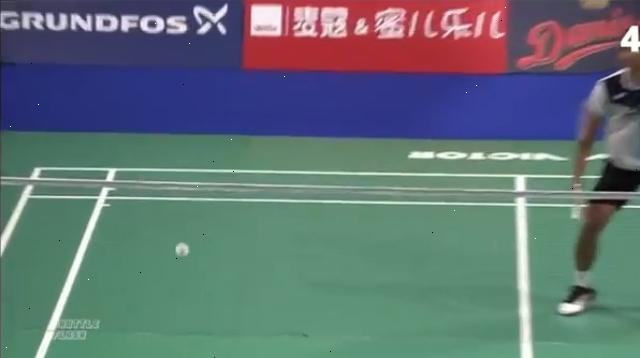Shuttlecock: (174, 240, 192, 262)
